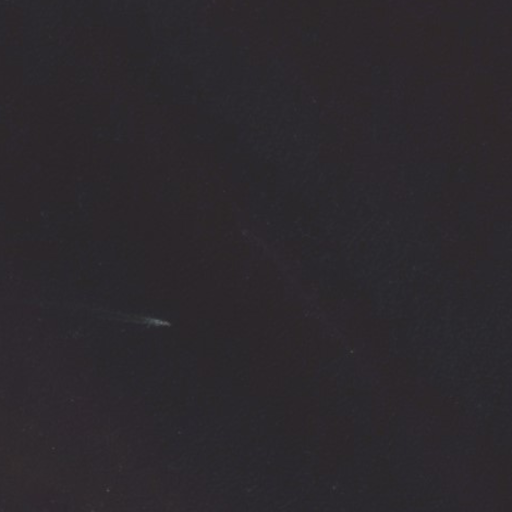ship: (150, 317, 174, 329)
